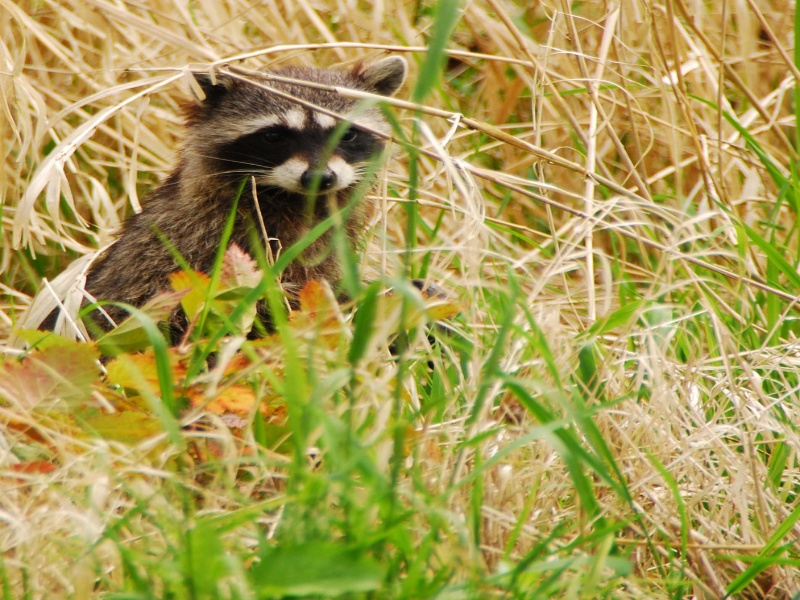raccoon: (51, 56, 405, 345)
